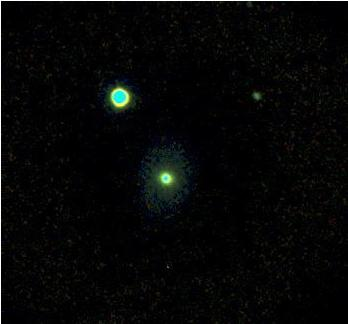star: (149, 250, 179, 280)
